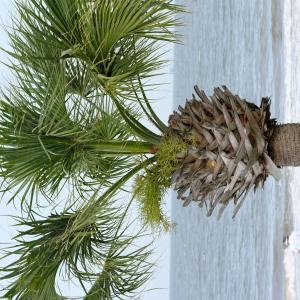palm tree: (0, 0, 198, 299)
